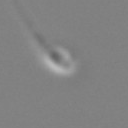normal: (8, 1, 49, 50)
